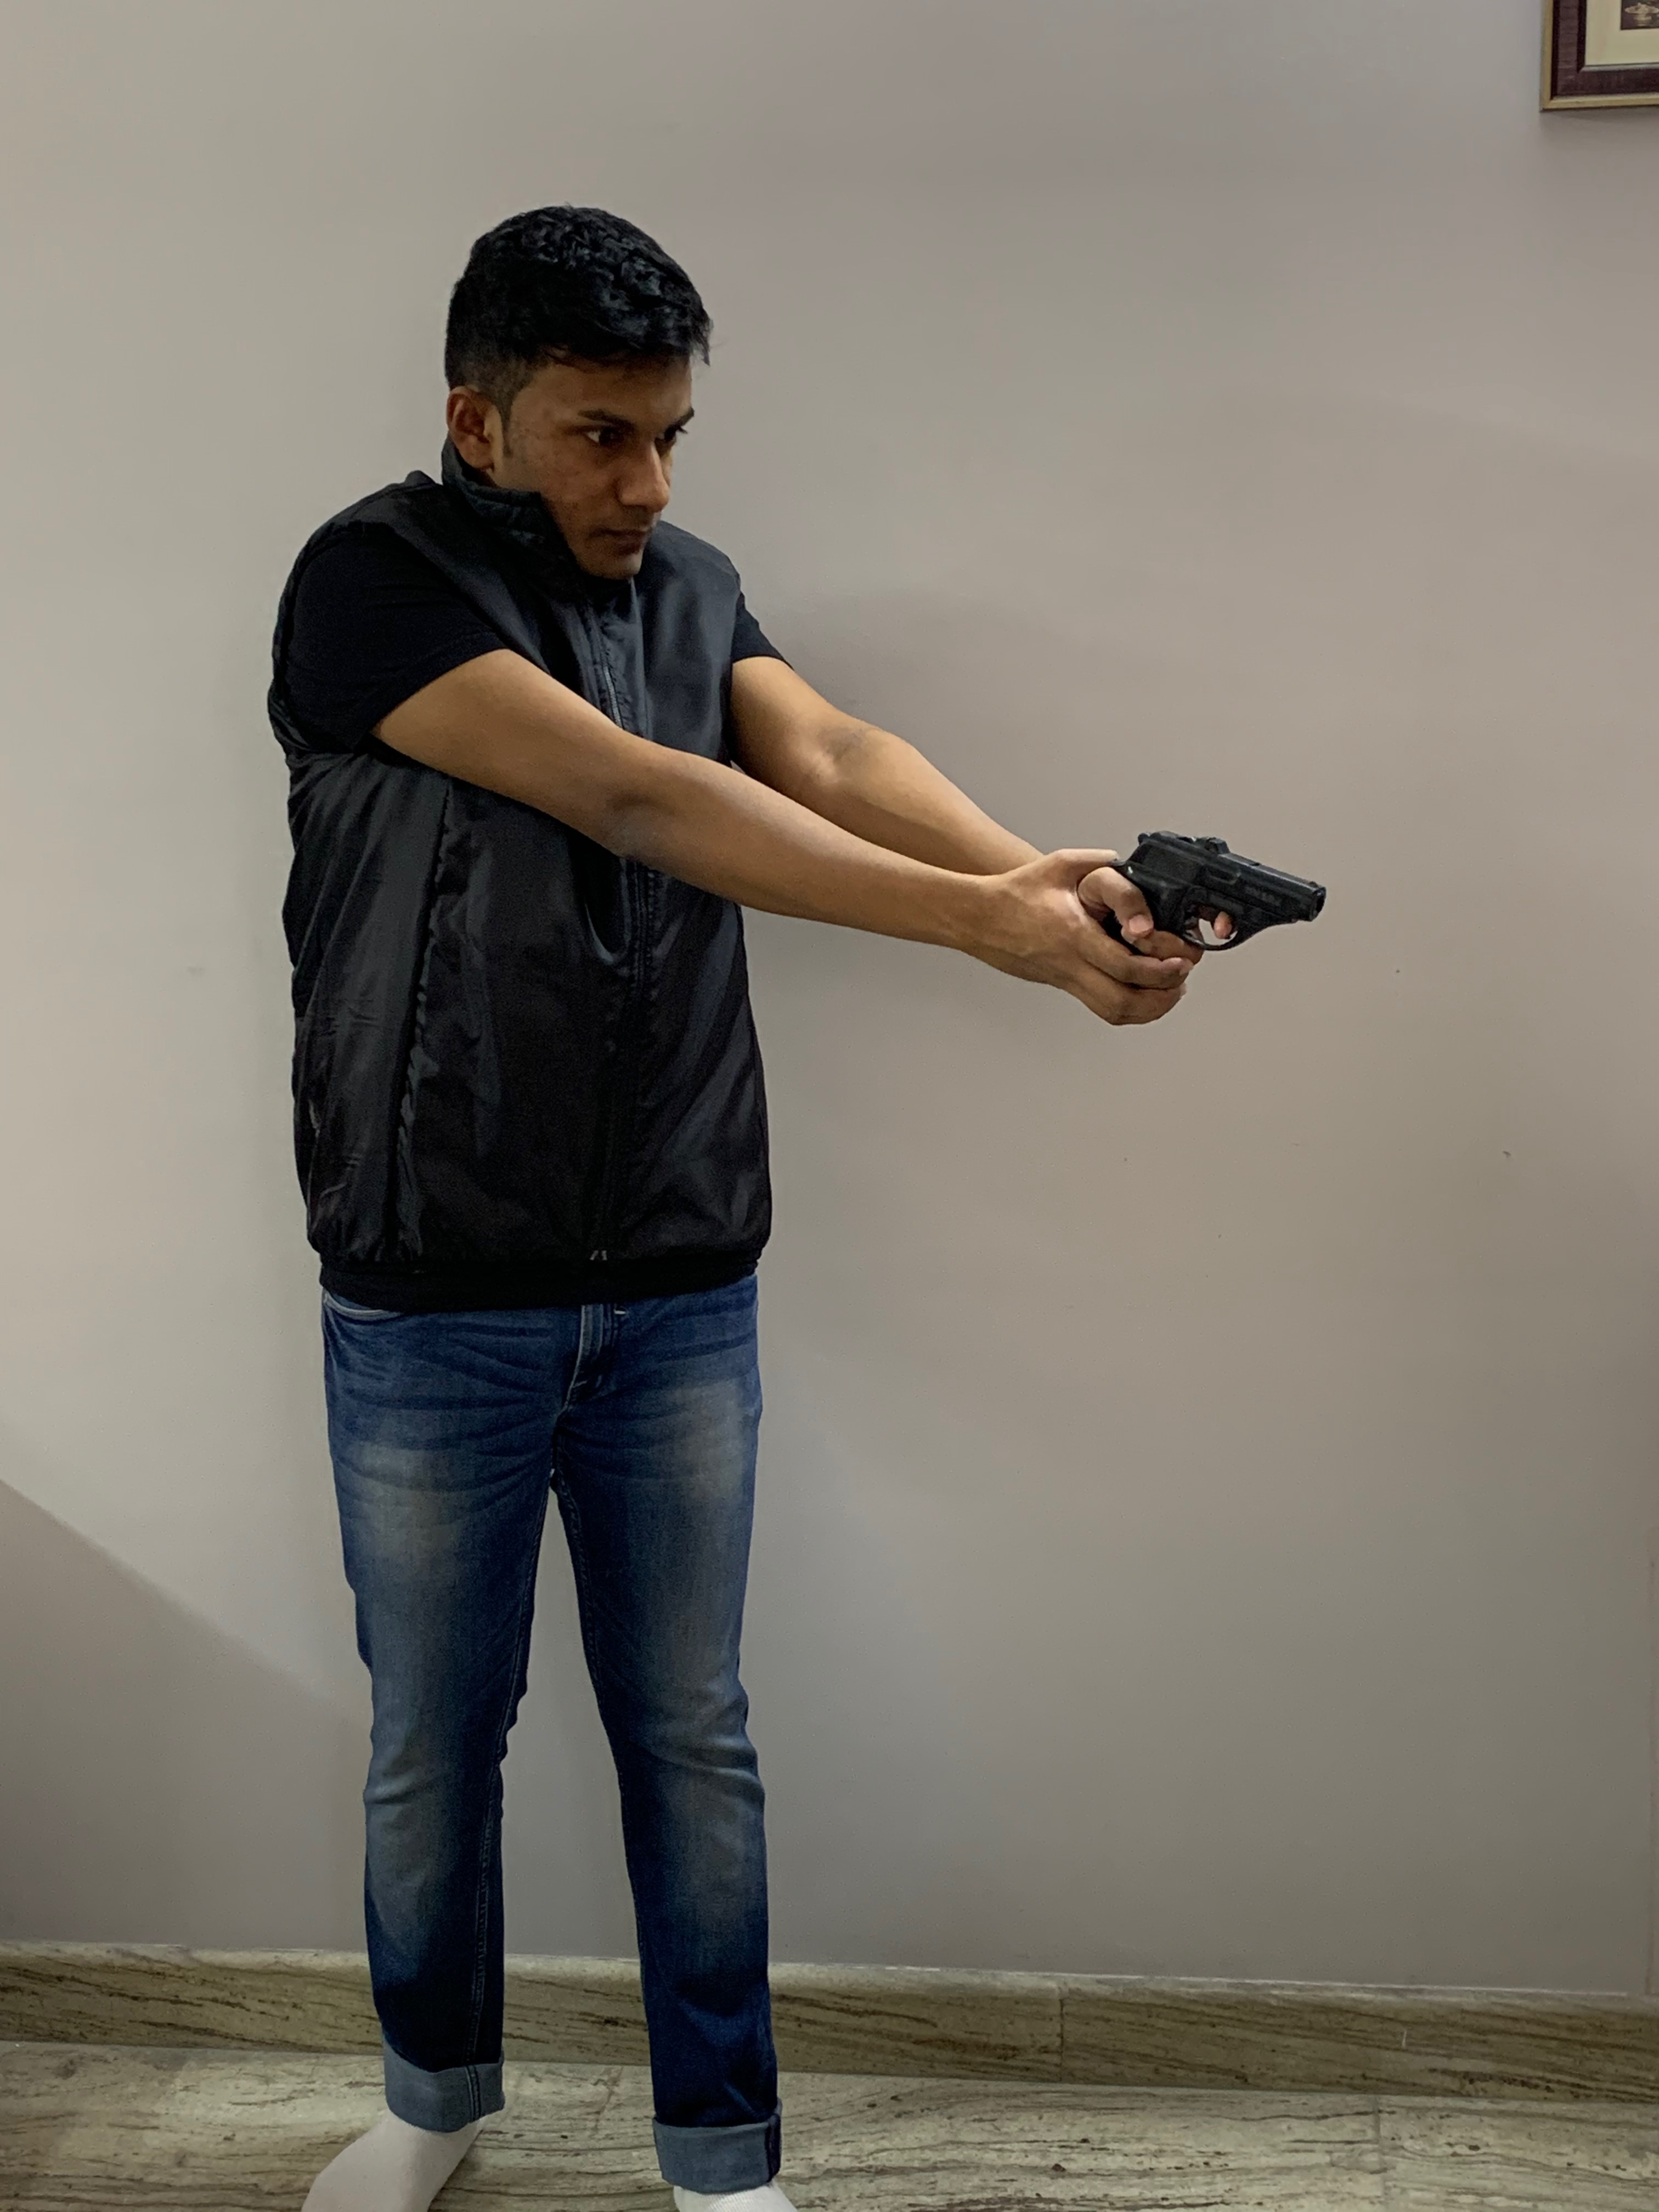gun: (1103, 826, 1330, 961)
